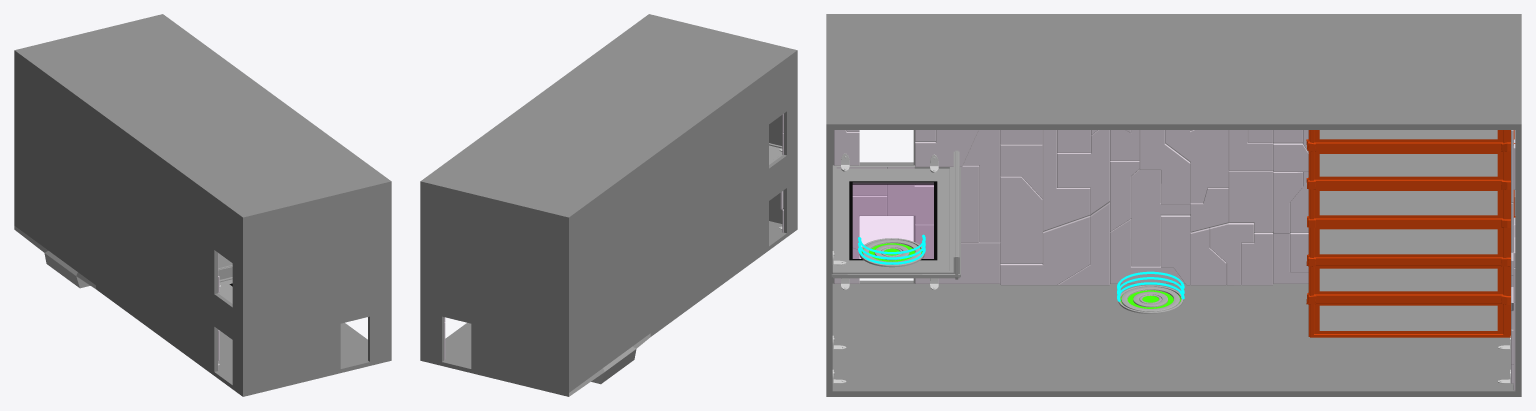
File: SalaF2.fbx
3 renders of one model, left to right at view 1: azimuth 30°, elevation 25°; view 2: azimuth 150°, elevation 25°; view 3: azimuth 270°, elevation 25°, orthographic. The views are drawn at different scales.
Parts seen in each view (by area): view 1: Cube.034, Cube.037; view 2: Cube.034; view 3: Cube.034, Plane.155, Cube.038, Cube.037, PedestalLeite.006, Plane.156, PedestalLeite.002, Circle.059, Circle.060.
Boxes of the visible parts, x1,y1,x2,y2 form: Cube.034: [14, 14, 391, 396]; Cube.037: [218, 265, 232, 303]; Cube.034: [420, 14, 797, 396]; Cube.034: [826, 14, 1521, 396]; Plane.155: [834, 130, 1308, 285]; Cube.038: [1306, 130, 1515, 337]; Cube.037: [831, 150, 960, 279]; PedestalLeite.006: [1118, 285, 1183, 313]; Plane.156: [1511, 130, 1515, 390]; PedestalLeite.002: [859, 238, 924, 267]; Circle.059: [858, 234, 925, 264]; Circle.060: [1117, 271, 1184, 301].
Bounding box in the file's own units: 6305 × 7526 × 16400.
